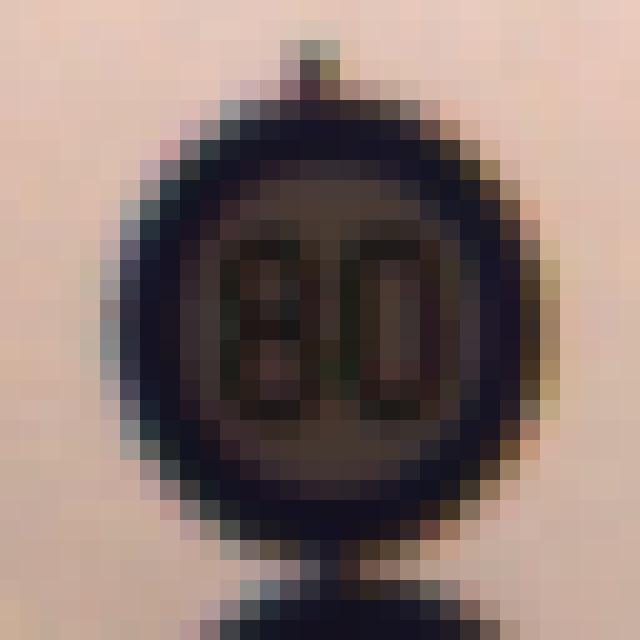SPEED-LIMIT-80: (120, 106, 528, 542)
